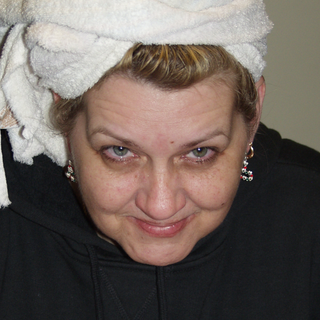eye: (176, 140, 222, 166), (96, 139, 142, 165)
